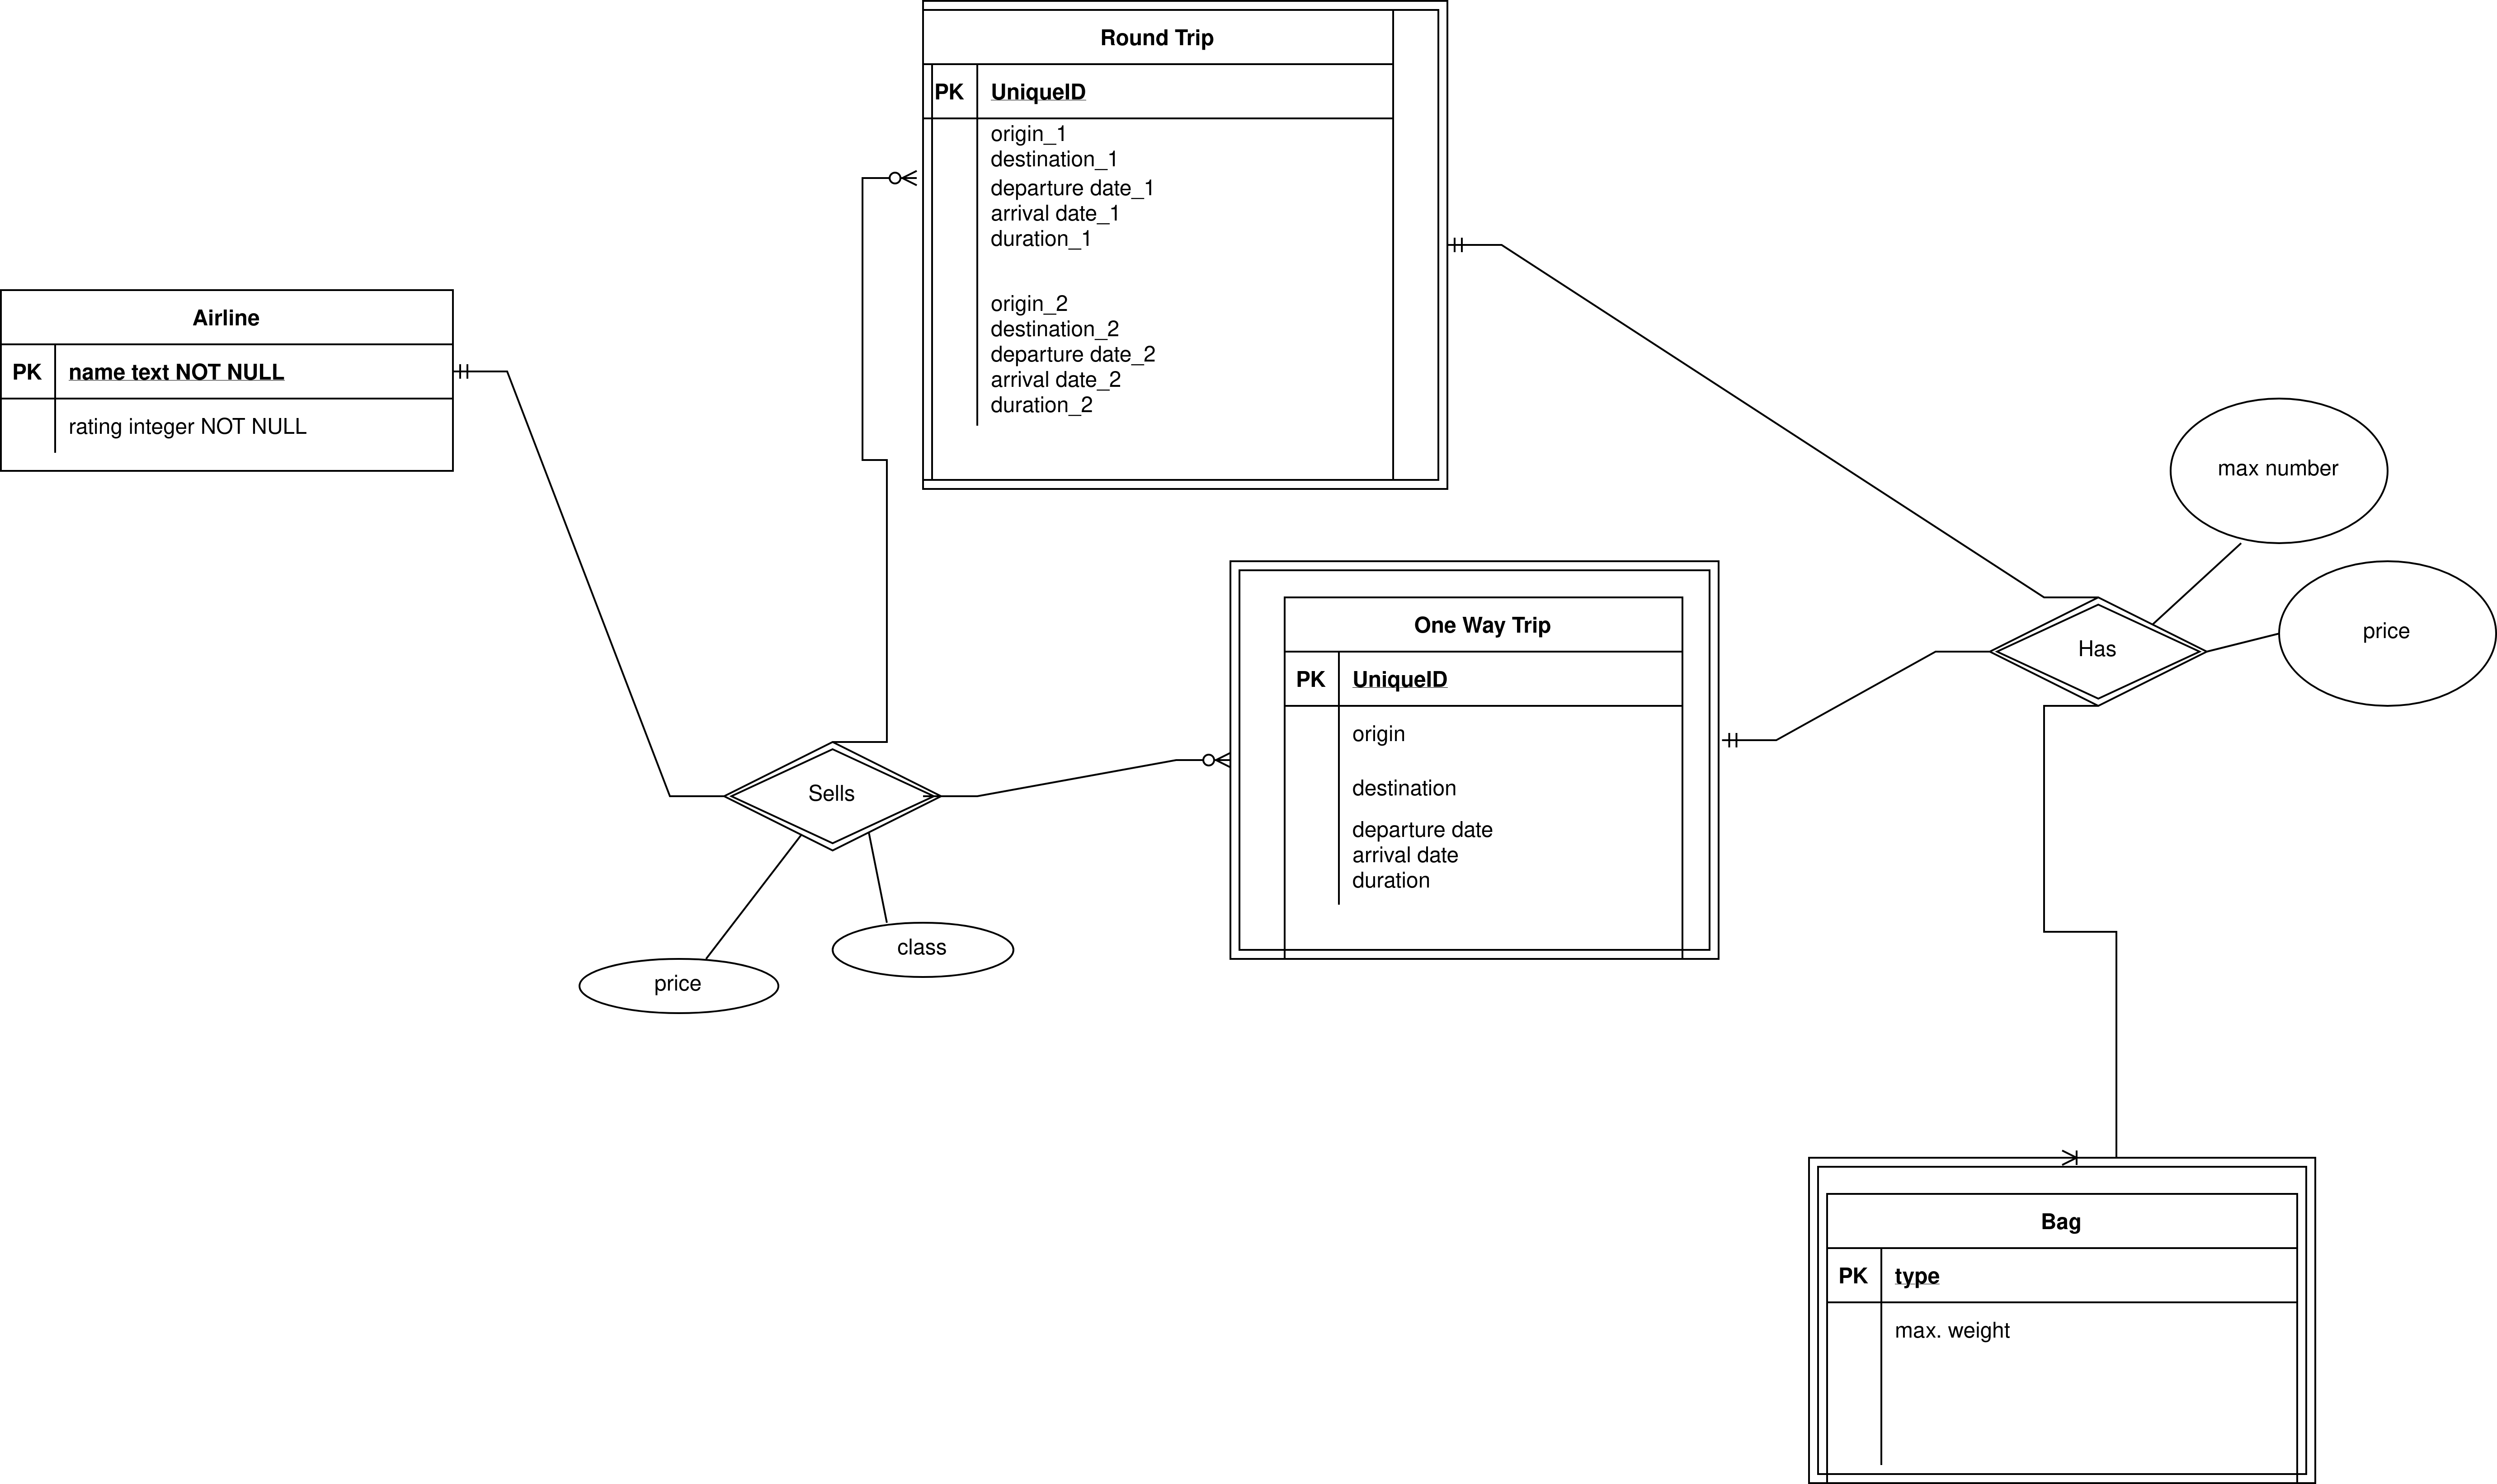entity: (4, 291, 452, 475)
ident_rel: (1993, 592, 2204, 707), (728, 740, 940, 850)
many: (2061, 1148, 2117, 1168), (864, 170, 922, 187), (1175, 753, 1230, 770)
one: (452, 362, 507, 380), (1721, 731, 1780, 746), (1449, 238, 1500, 253)
rel_attr: (2172, 399, 2386, 548), (2283, 562, 2493, 705), (578, 954, 776, 1018), (832, 920, 1014, 975)
weak_entity: (926, 0, 1446, 486), (1226, 560, 1725, 965), (1810, 1159, 2322, 1484)
